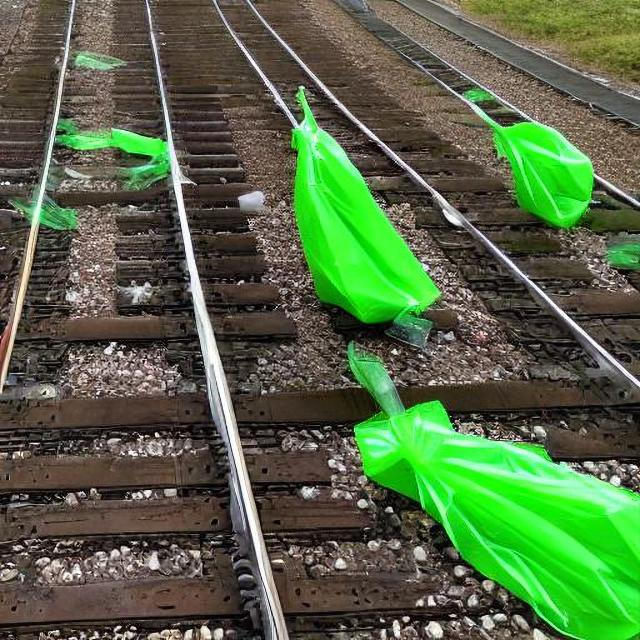floating object: (63, 125, 181, 181)
plastic bag: (353, 352, 638, 636), (275, 90, 453, 336), (480, 81, 621, 240)
